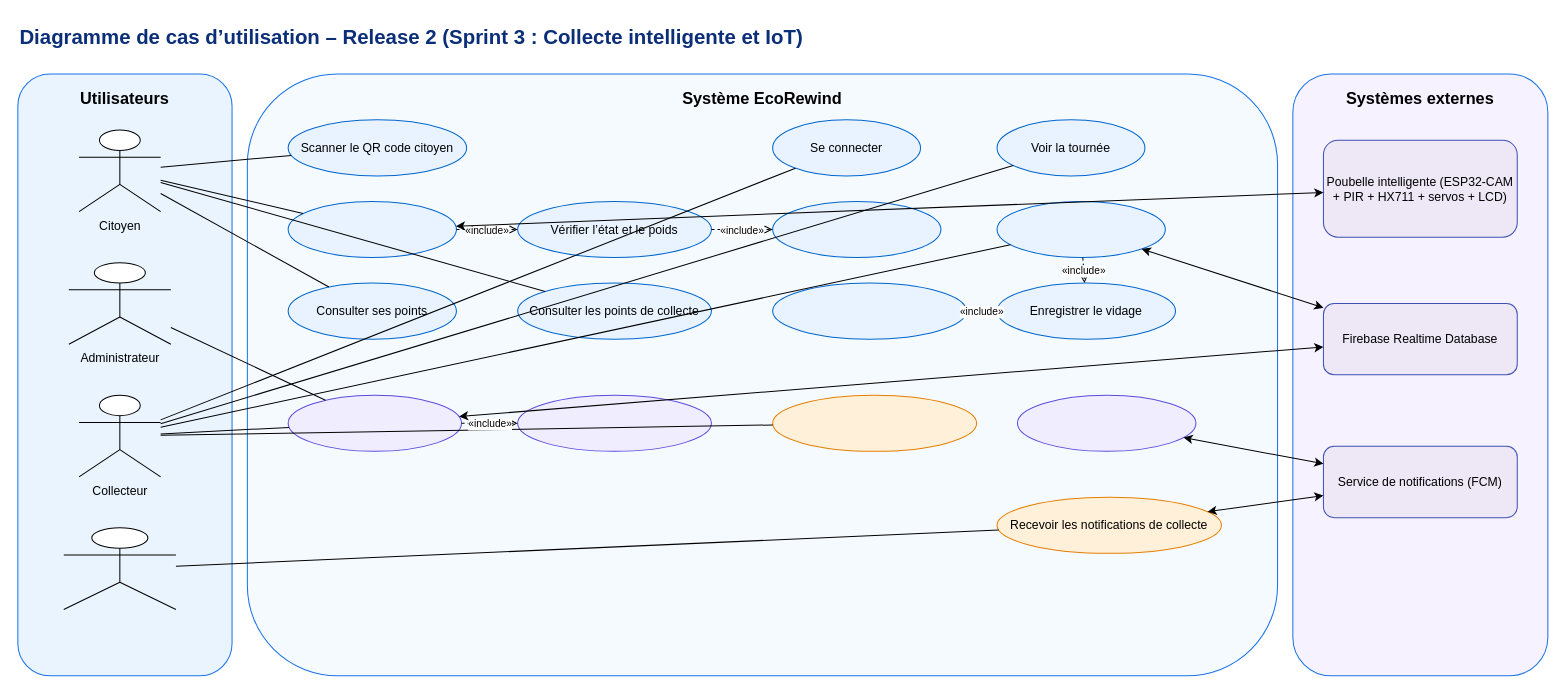
Image size: 1566x694. Some labels were removed from this diagram. The centre of each missing label's shape, as x and y in pixels:
Attribuer les points: (856,229)
Consulter les données de collecte: (874,422)
Consulter l’état des poubelles: (614,422)
Déposer le déchet: (371,229)
Gérer les SmartBins: (374,422)
Intercommunalité: (119,568)
Recevoir les notifications: (1106,422)
Réinitialiser le poids / l’état: (869,310)
Scanner la poubelle: (1080,229)
